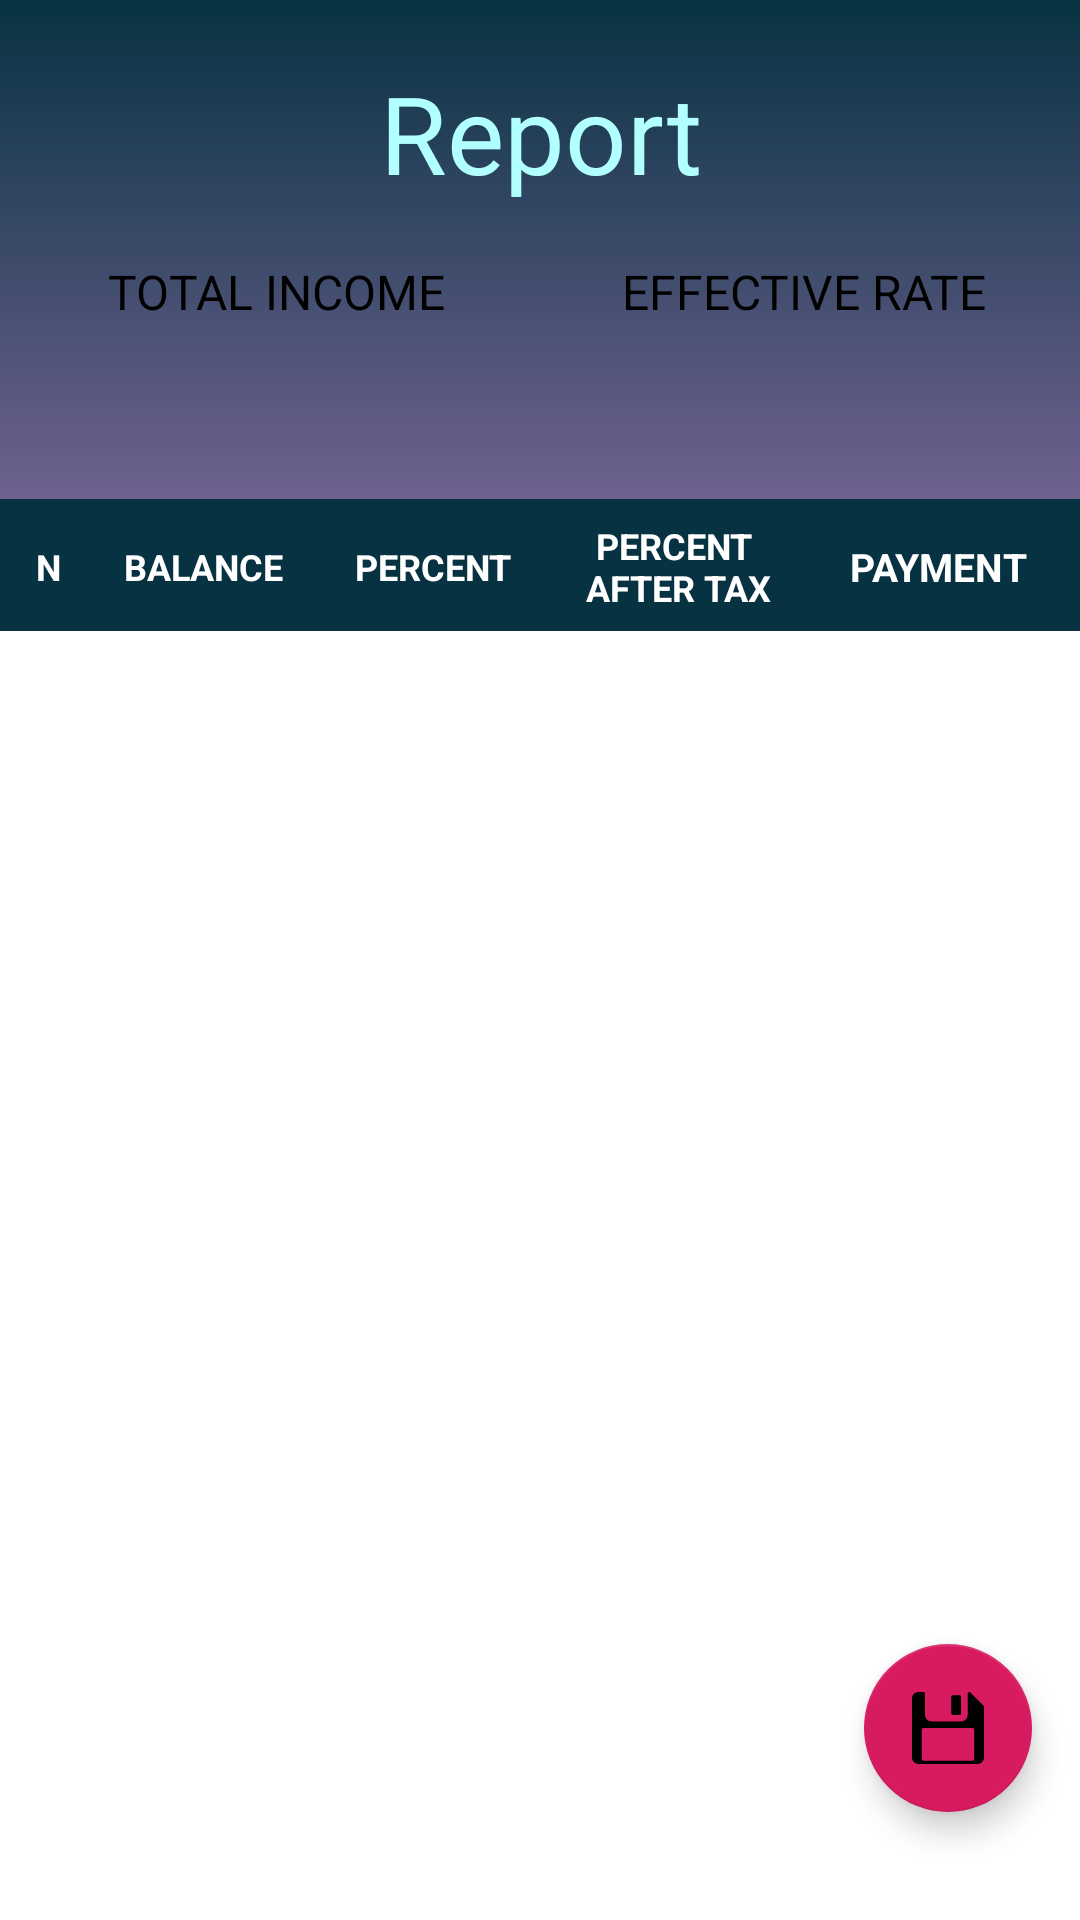

Icon click points for this 1080x1920 phone screenshot, format point (x, y):
save: point (948, 1728)
